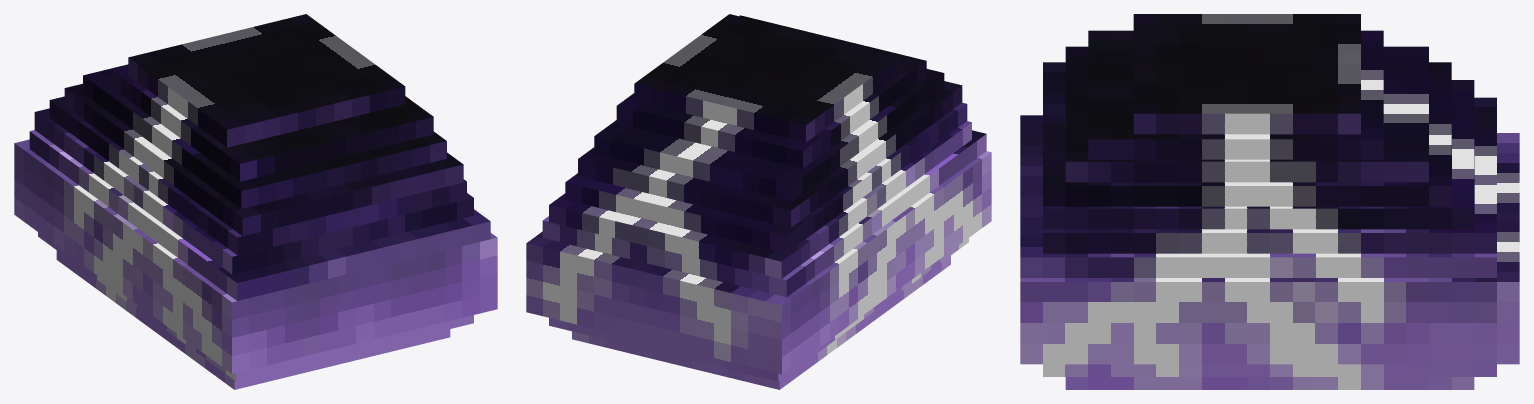
The model's file is Slime_Storm.gltf.
The picture shows the model from 3 angles, left to right: view 1: azimuth 30°, elevation 25°; view 2: azimuth 150°, elevation 25°; view 3: azimuth 270°, elevation 25°; orthographic projection. The views are drawn at different scales.
Visible parts, largest first — view 1: cube (×10); view 2: cube (×10); view 3: cube (×10).
Part boxes in pixels (<box>): cube (×10): <box>14,14,497,389</box>; cube (×10): <box>526,14,991,389</box>; cube (×10): <box>1020,14,1519,389</box>.
Size of the model in its own units: 0.9688 by 0.8125 by 1.38.
Materials: 1 (1 with a texture image).
